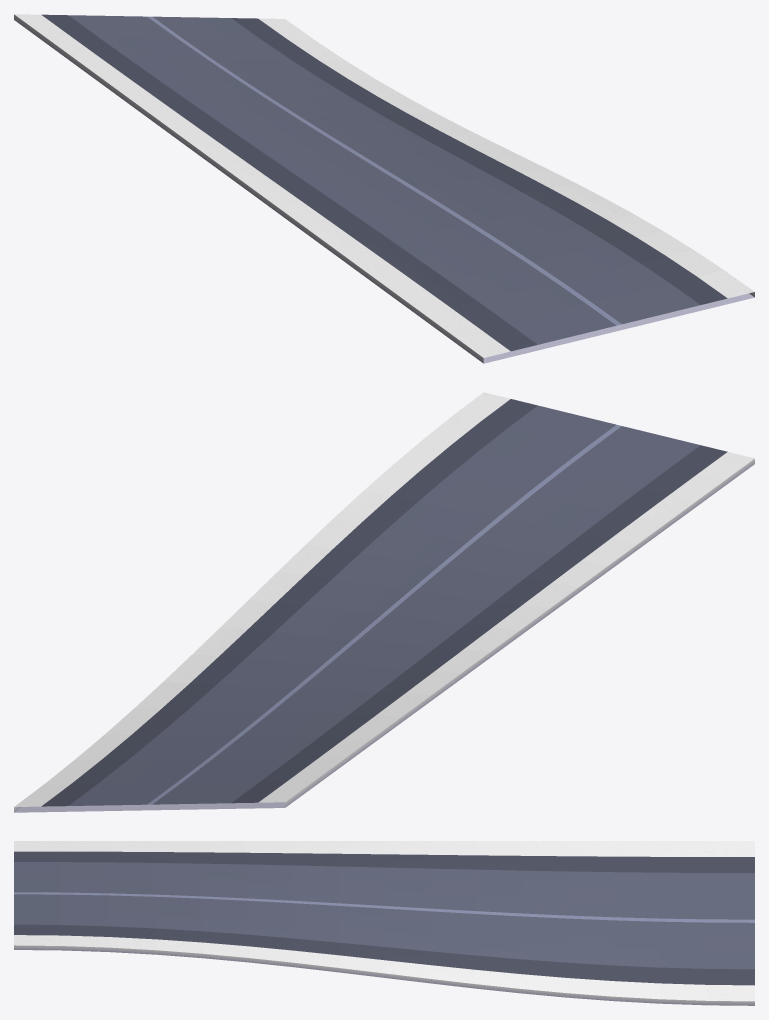
Rendered from road-Straight-Flat-HalfBankedRight-Down1-Center-Size3.glb.
3 views of the same model, one above another, from view 1: azimuth 30°, elevation 25°; view 2: azimuth 150°, elevation 25°; view 3: azimuth 270°, elevation 25° (orthographic). The views are drawn at different scales.
Parts seen in each view (by area): view 1: road-Straight-Flat-HalfBankedRight-Down1-Center-Size3; view 2: road-Straight-Flat-HalfBankedRight-Down1-Center-Size3; view 3: road-Straight-Flat-HalfBankedRight-Down1-Center-Size3.
Part boxes in pixels (x1,y1,x2,y2): road-Straight-Flat-HalfBankedRight-Down1-Center-Size3: (14,14,754,363); road-Straight-Flat-HalfBankedRight-Down1-Center-Size3: (14,392,754,812); road-Straight-Flat-HalfBankedRight-Down1-Center-Size3: (14,841,754,1005).
Size of the model in its own units: 1 by 0.27 by 3.
1 material, 1 textured.
